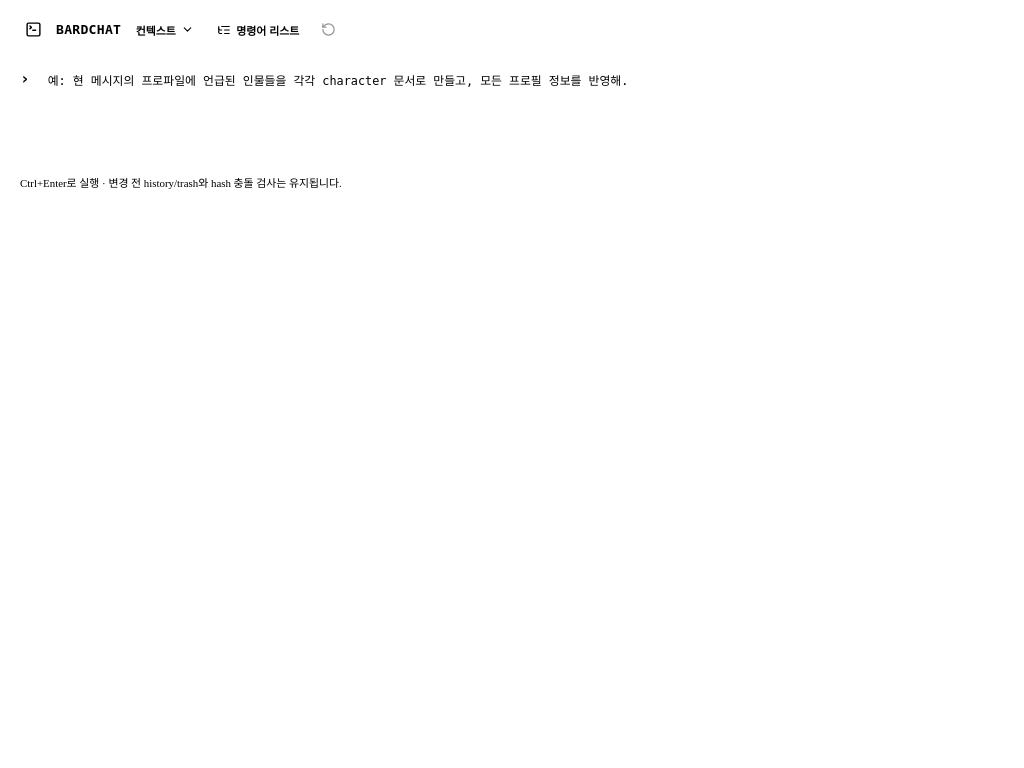
Test: RisuBardWikiCommandTerminal › opens a two-pane BARDCHAT command list
Click the button "명령어 리스트" at (258, 30), box [208,15,308,45]
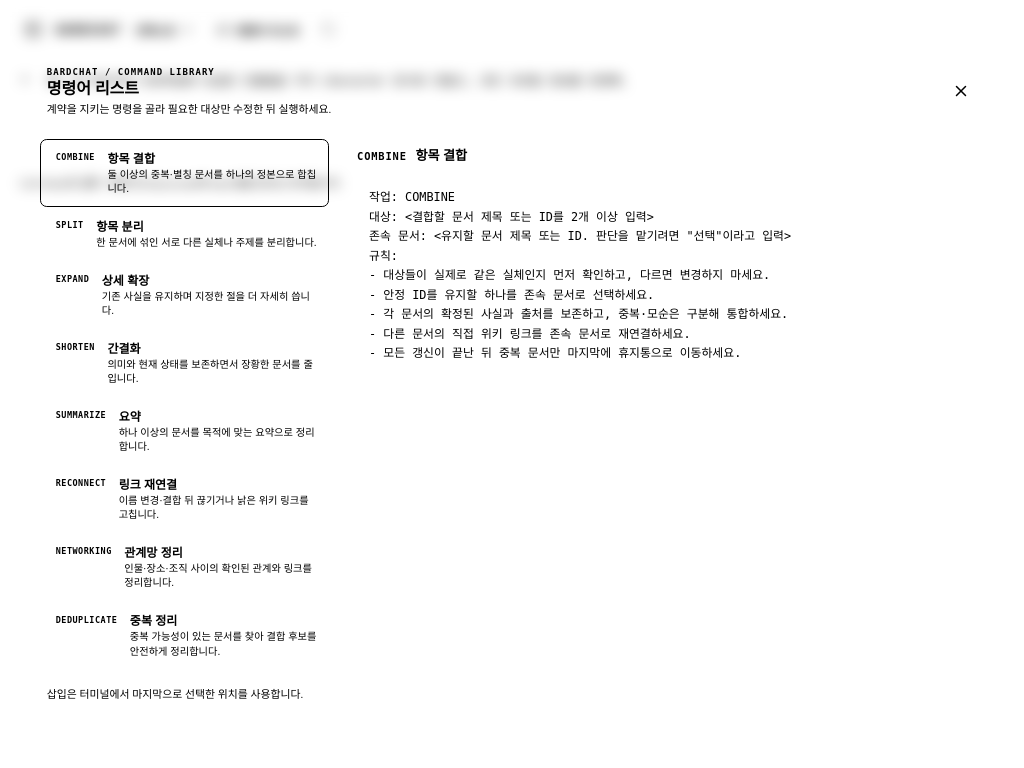
Expected: the dialog is shown
Expected: the navigation bar is shown, [31,129,339,673]
Expected: the element that starts with "COMBINE" is shown, [357,148,791,360]
